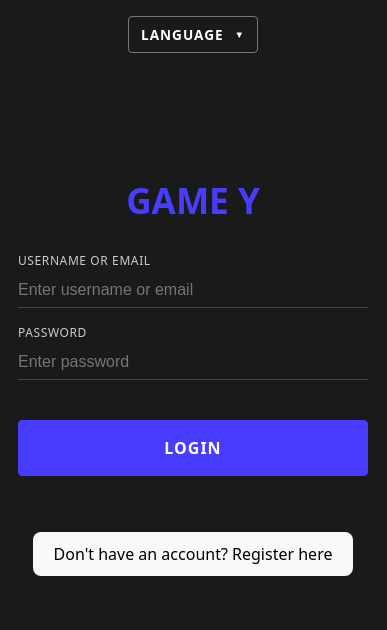
Test: RegisterForm › shows validation error when email is missing on register
Click the button "Don't have an account? Register here": (193,554) [33,532,353,576]
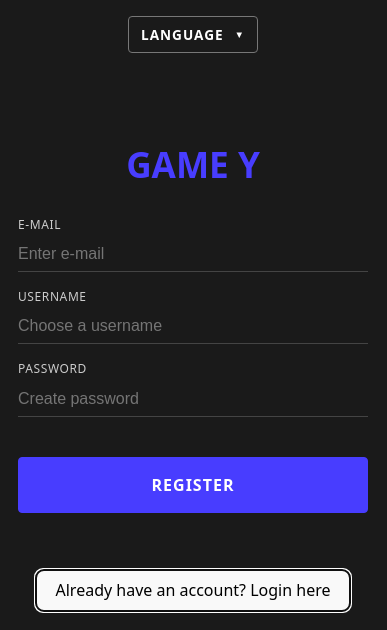
In the field labelled "Username": (193,327) [18,309,368,344], type "testuser"
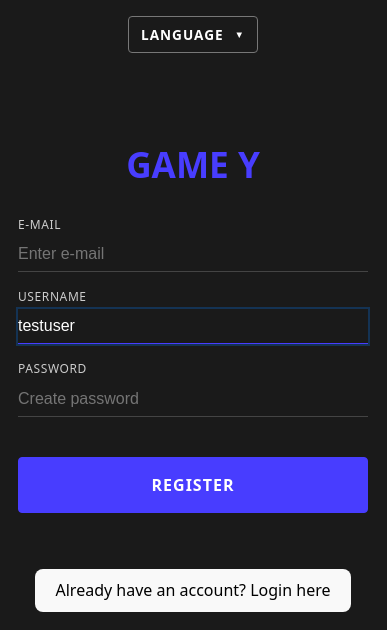
In the password field labelled "Password": (193,399) [18,382,368,416], type "password"
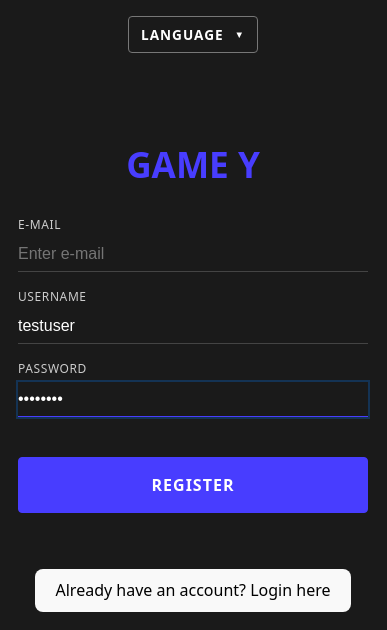
Click the button "REGISTER": (193,484) [18,456,368,512]
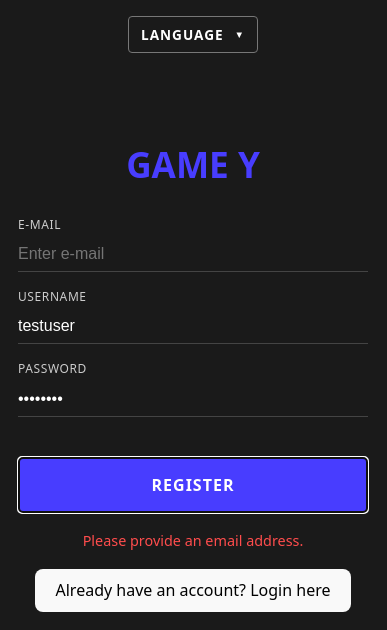
Expected: the text "Please provide an email address." is shown, [83,530,303,551]
